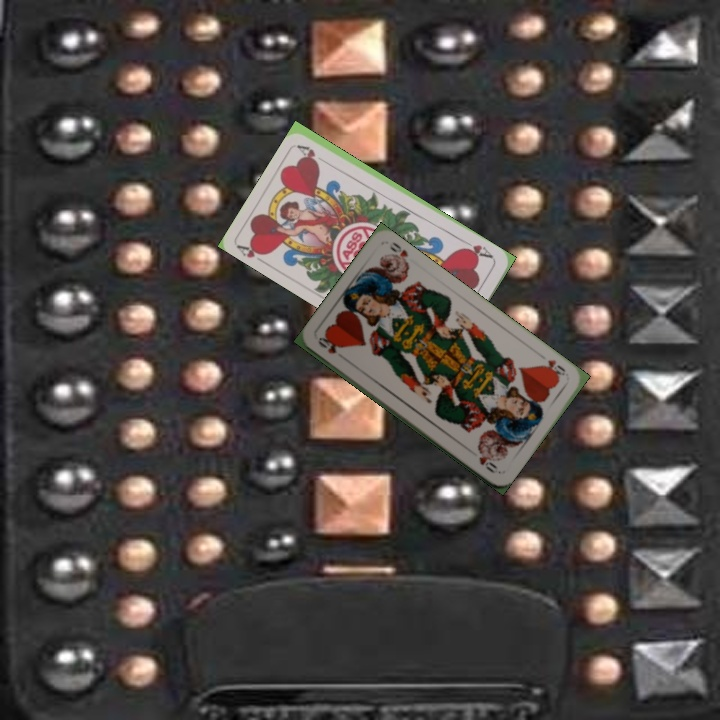HA: (234, 239, 271, 268), (459, 236, 496, 262)
HO: (537, 355, 568, 381), (314, 333, 339, 356)
